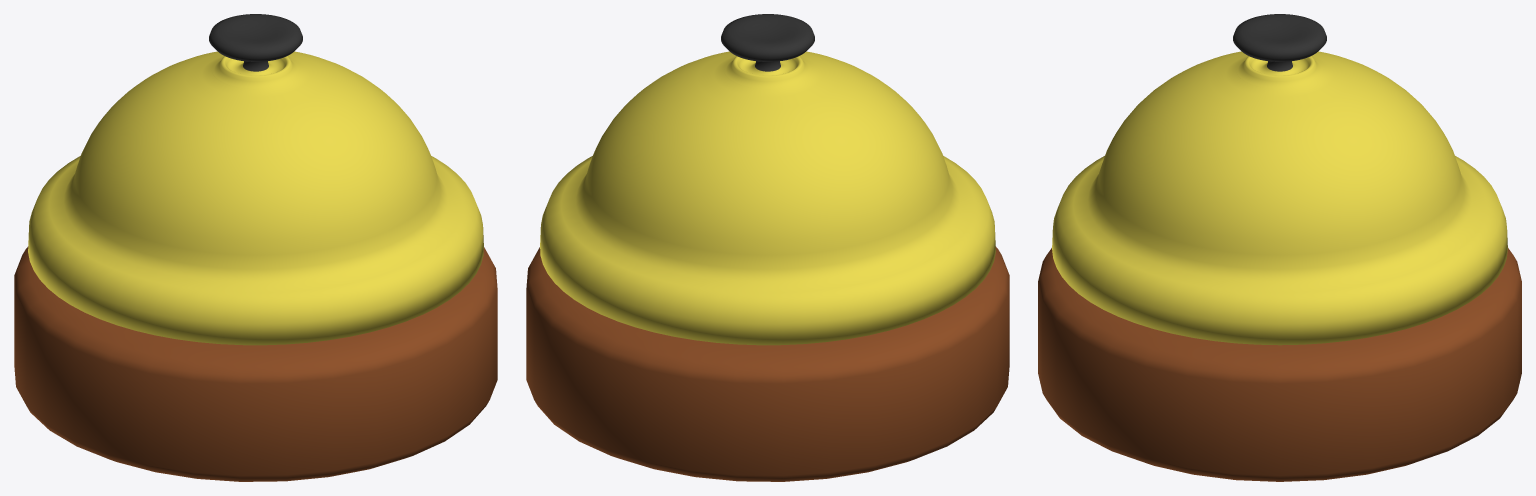
Rendered from zil.fbx.
3 views of the same model, side by side, from view 1: azimuth 30°, elevation 25°; view 2: azimuth 150°, elevation 25°; view 3: azimuth 270°, elevation 25° (orthographic).
Visible parts, largest first — view 1: Sphere; view 2: Sphere; view 3: Sphere.
Boxes of the visible parts, x1,y1,x2,y2 form: Sphere: (14,14,497,481); Sphere: (526,14,1009,481); Sphere: (1038,14,1521,481).
Size of the model in its own units: 200 by 166 by 200.
